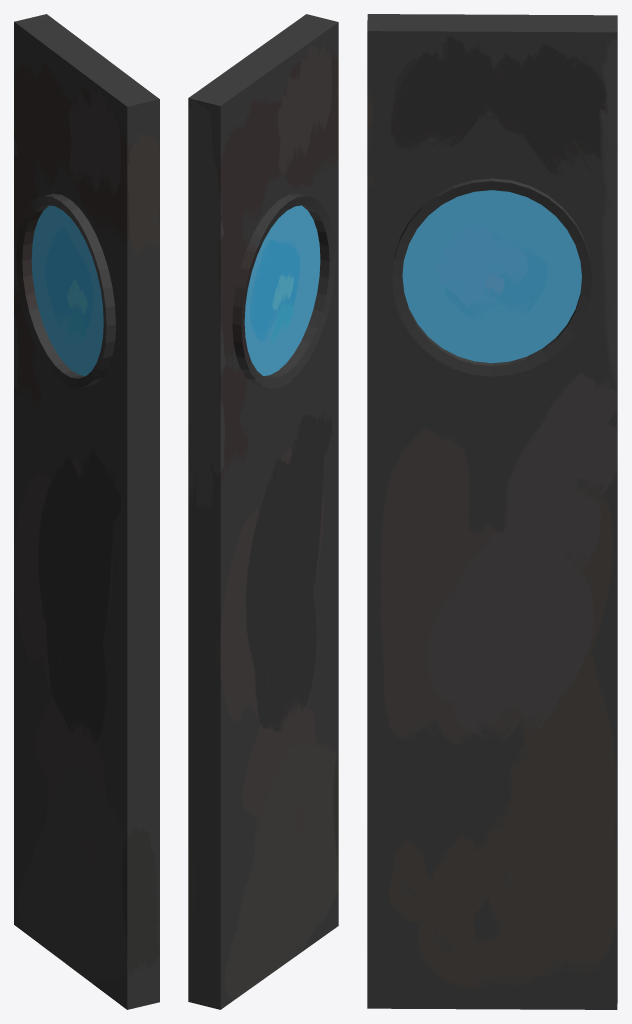
Rendered from puertaCocina.fbx.
3 views of the same model, side by side, from view 1: azimuth 30°, elevation 25°; view 2: azimuth 150°, elevation 25°; view 3: azimuth 270°, elevation 25° (orthographic). The views are drawn at different scales.
Parts seen in each view (by area): view 1: puerta_001.004; view 2: puerta_001.004; view 3: puerta_001.004.
Part boxes in pixels (x1=…): puerta_001.004: x1=14, y1=14, x2=159, y2=1009; puerta_001.004: x1=188, y1=14, x2=338, y2=1009; puerta_001.004: x1=367, y1=14, x2=617, y2=1009.
Bounding box in the file's own units: 0.1312 × 0.538 × 2.32.
1 material, 1 textured.
